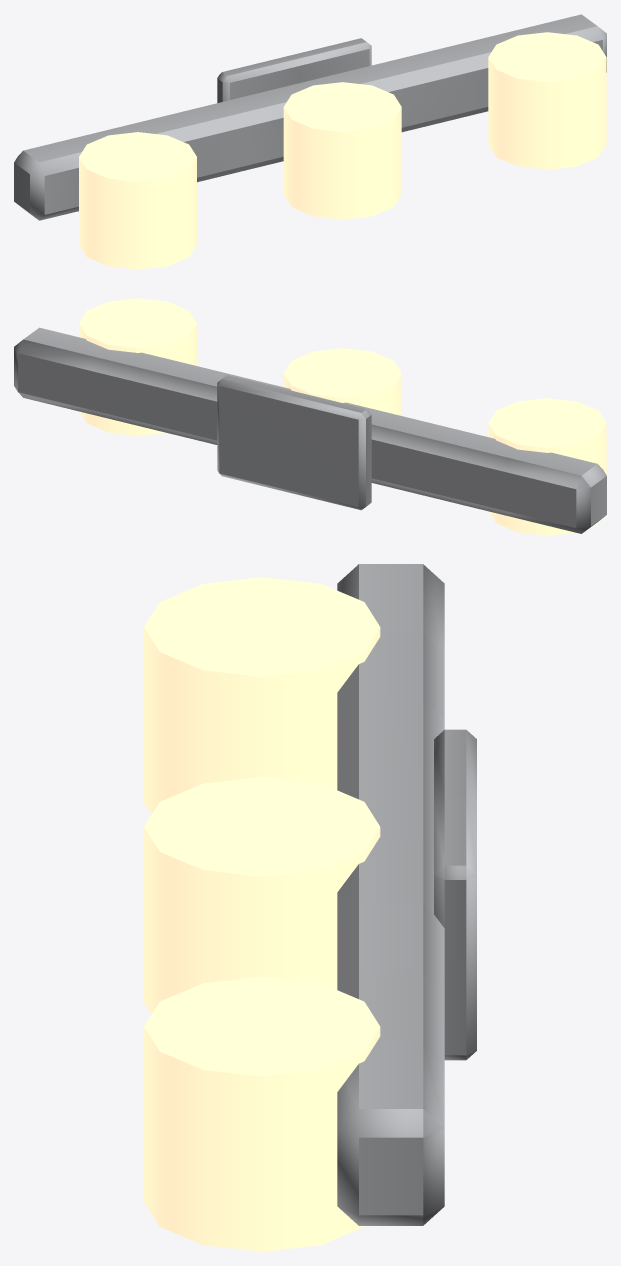
File: vanity_light.glb
3 views of the same model, one above another, from view 1: azimuth 30°, elevation 25°; view 2: azimuth 150°, elevation 25°; view 3: azimuth 270°, elevation 25° (orthographic). The views are drawn at different scales.
Visible parts, largest first — view 1: body; view 2: body; view 3: body.
Part boxes in pixels (x1,y1,x2,y2): body: (14,14,606,269); body: (14,298,606,535); body: (144,564,476,1251).
Size of the model in its own units: 0.62 by 0.105 by 0.155.
